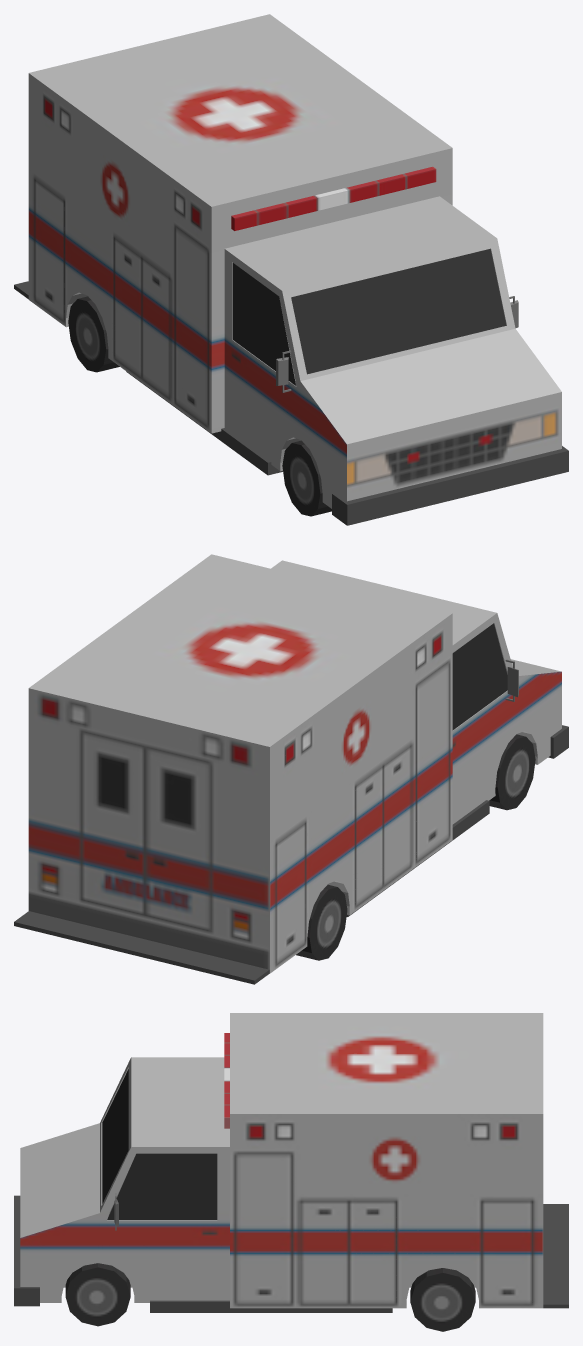
File: Vehicle_Ambulance.fbx
3 renders of one model, top to bottom at view 1: azimuth 30°, elevation 25°; view 2: azimuth 150°, elevation 25°; view 3: azimuth 270°, elevation 25°, orthographic. The views are drawn at different scales.
Visible parts, largest first — view 1: Vehicle_Ambulance; view 2: Vehicle_Ambulance; view 3: Vehicle_Ambulance.
Part boxes in pixels (bbox=[...]): Vehicle_Ambulance: bbox=[14, 14, 568, 525]; Vehicle_Ambulance: bbox=[14, 554, 568, 984]; Vehicle_Ambulance: bbox=[14, 1013, 568, 1331].
Size of the model in its own units: 293 by 295 by 681.
